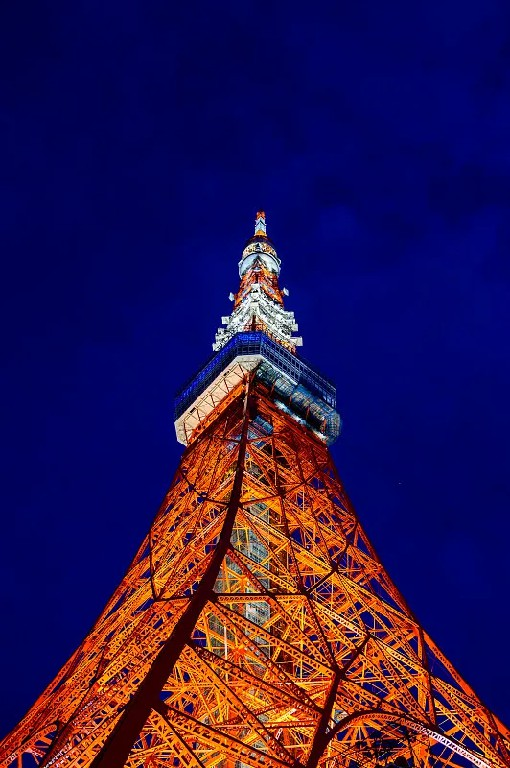Tokyo: (1, 201, 510, 768)
